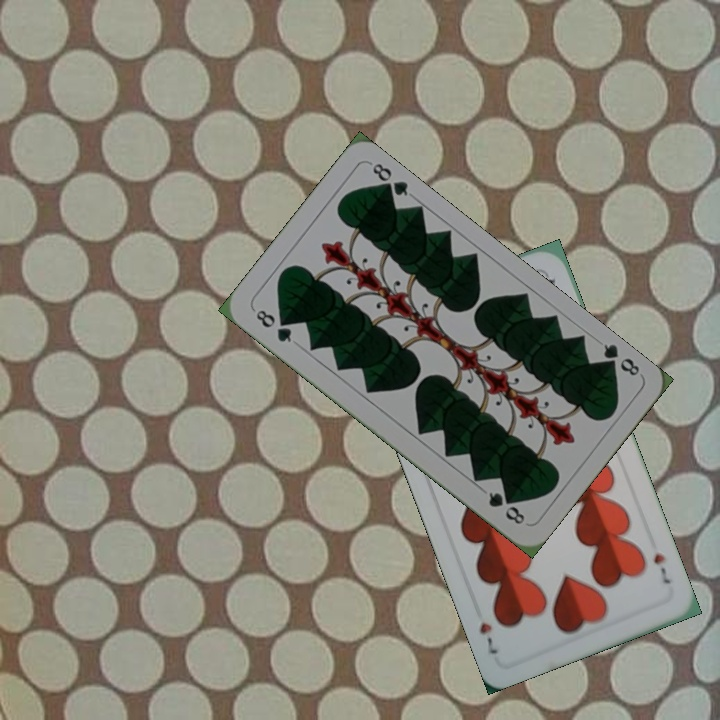G8: (596, 339, 643, 379), (251, 305, 295, 345)
H7: (649, 549, 674, 587)
